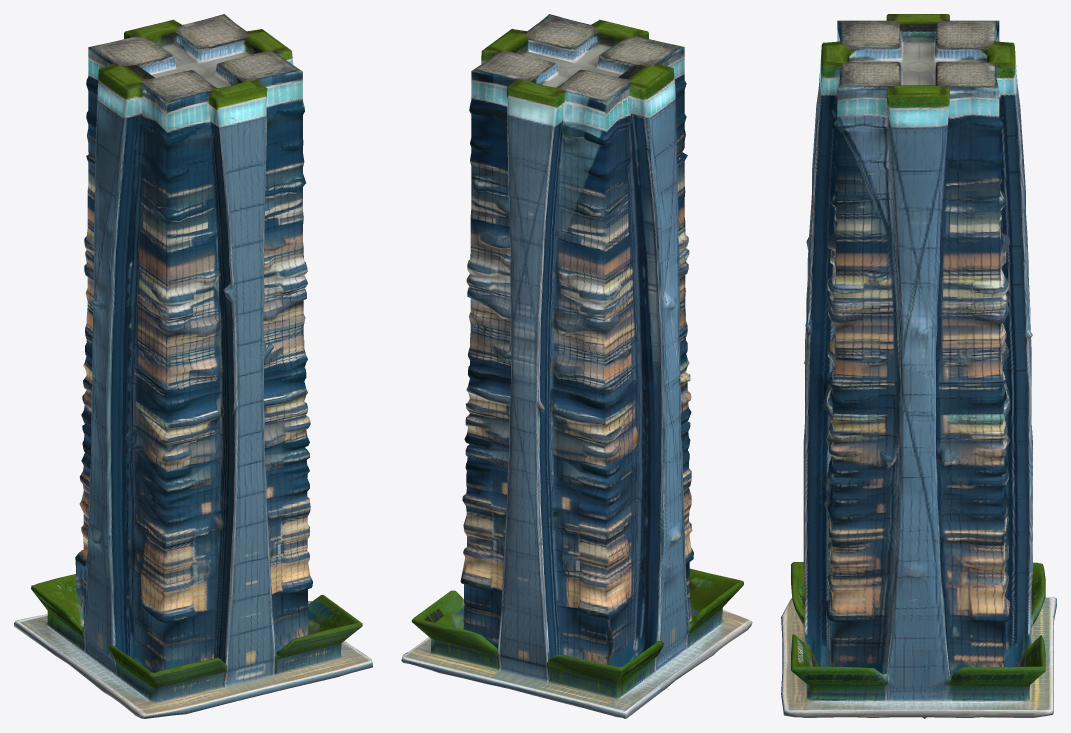
The model's file is futuristic-tower.glb.
The picture shows the model from 3 angles, left to right: view 1: azimuth 30°, elevation 25°; view 2: azimuth 150°, elevation 25°; view 3: azimuth 270°, elevation 25°; orthographic projection. The views are drawn at different scales.
Bounding box in the file's own units: 0.7632 × 1.91 × 0.7671.
Materials: 1 (1 with a texture image).
